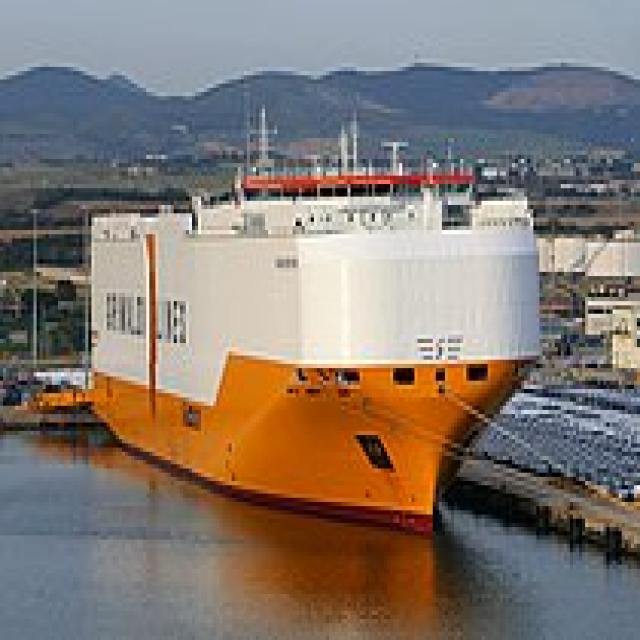Carrier: (82, 176, 542, 540)
